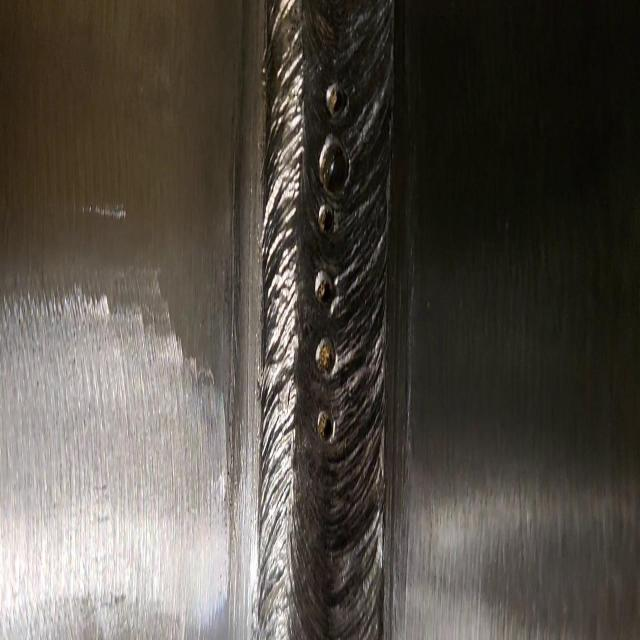Welding Line: (274, 7, 376, 640)
porosity: (314, 84, 350, 447)
